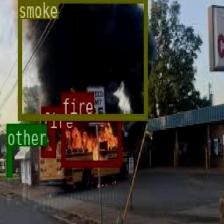fire: (60, 115, 120, 166), (41, 130, 55, 156)
smoke: (17, 0, 147, 119)
